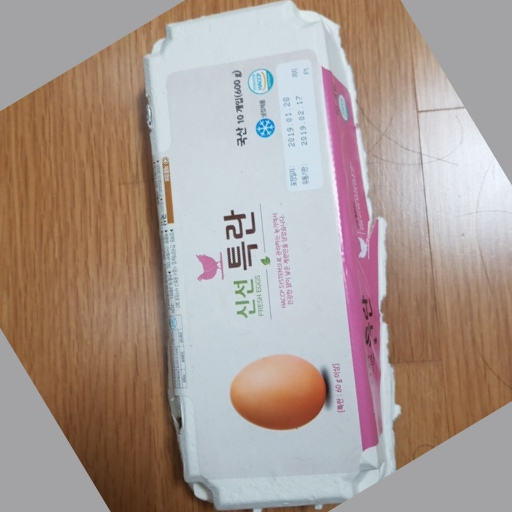Paper_0: (139, 2, 406, 512)
